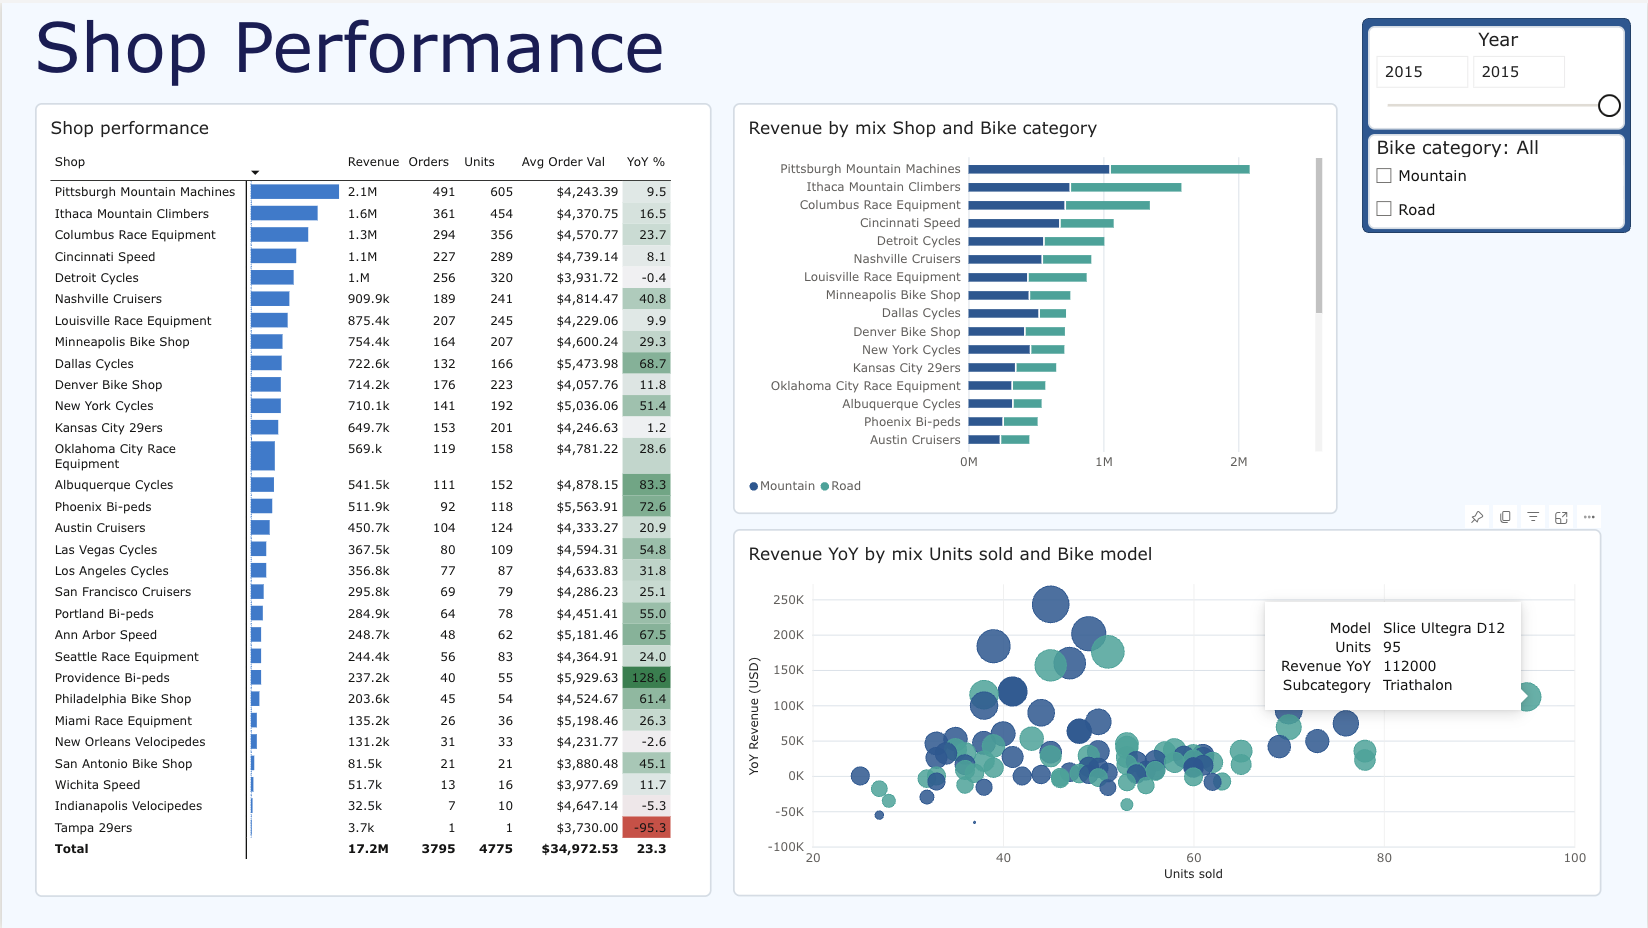

Layout of this report page (visuals, bound fields, positions):
{"tool":"powerbi","page":{"name":"Shop Performance","canvas":[1920,1080],"ordinal":1},"visuals":[{"type":"textbox","box":[37.7,0,1882.1,115.7],"z":0},{"type":"shape","box":[1588.3,18.1,314,251],"z":1000},{"type":"slicer","title":"Year","fields":{"Values":["Calendar.Year"]},"box":[1595.1,26.7,300.1,121.5],"z":2000},{"type":"slicer","fields":{"Values":["bikes.category1"]},"box":[1595.1,153.1,300.1,110.6],"z":3000},{"type":"pivotTable","title":"Shop performance","fields":{"Rows":["bikeshop.bikeshop.name"],"Values":["bikeshop.RevenueMatrixTot","orders.DisplayRevenue","Sum(orders.quantity)","orders.AverageOrderValue","orders.Revenue YoY %"]},"box":[38.9,116.6,789.7,926.9],"z":4000},{"type":"scatterChart","title":"Revenue YoY by mix Units sold and Bike model","fields":{"Series":["bikes.model"],"Size":["orders.Revenue YoY"],"X":["Sum(orders.quantity)"],"Y":["orders.Revenue YoY"]},"box":[854,614.7,1014.4,428.8],"z":5000},{"type":"barChart","title":"Revenue by mix Shop and Bike category","fields":{"Category":["bikeshop.bikeshop.name"],"Series":["bikes.category1"],"Y":["orders.Revenue"]},"box":[854,116.6,705.8,479.9],"z":6000}]}

Visuals, with their boxes in screenshot pixels (x1, y1, x2, y2), scaled from the page's 1920x1080 canvas onto the 1648x928 screenshot:
textbox: <bbox>32, 0, 1647, 99</bbox>
shape: <bbox>1363, 16, 1633, 231</bbox>
"Year" slicer: <bbox>1369, 23, 1627, 127</bbox>
slicer - bikes.category1: <bbox>1369, 132, 1627, 227</bbox>
"Shop performance" pivotTable: <bbox>33, 100, 711, 897</bbox>
"Revenue YoY by mix Units sold and Bike model" scatterChart: <bbox>733, 528, 1604, 897</bbox>
"Revenue by mix Shop and Bike category" barChart: <bbox>733, 100, 1339, 513</bbox>
